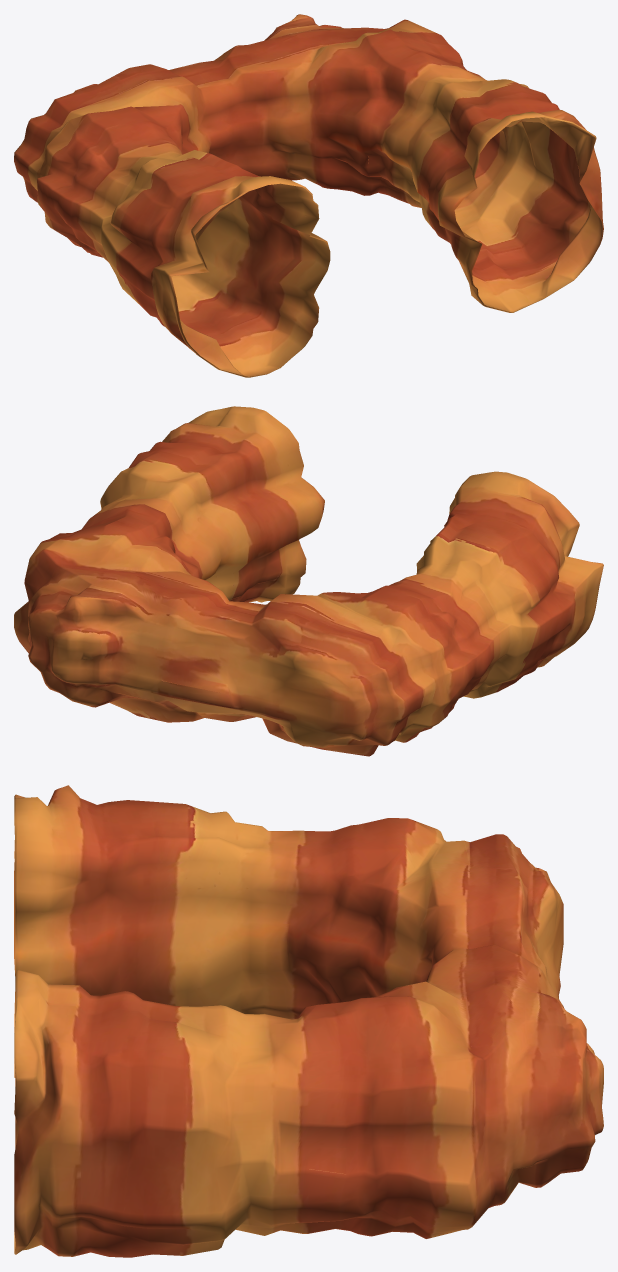
3 renders of one model, top to bottom at view 1: azimuth 30°, elevation 25°; view 2: azimuth 150°, elevation 25°; view 3: azimuth 270°, elevation 25°, orthographic. The views are drawn at different scales.
Parts seen in each view (by area): view 1: SM_Tripo_DesertRockArch_LOD0; view 2: SM_Tripo_DesertRockArch_LOD0; view 3: SM_Tripo_DesertRockArch_LOD0.
Part boxes in pixels (<box>): SM_Tripo_DesertRockArch_LOD0: <box>14,14,603,377</box>; SM_Tripo_DesertRockArch_LOD0: <box>14,406,603,756</box>; SM_Tripo_DesertRockArch_LOD0: <box>14,785,603,1257</box>.
Bounding box in the file's own units: 15.68 × 6.61 × 13.
Materials: 1 (1 with a texture image).
